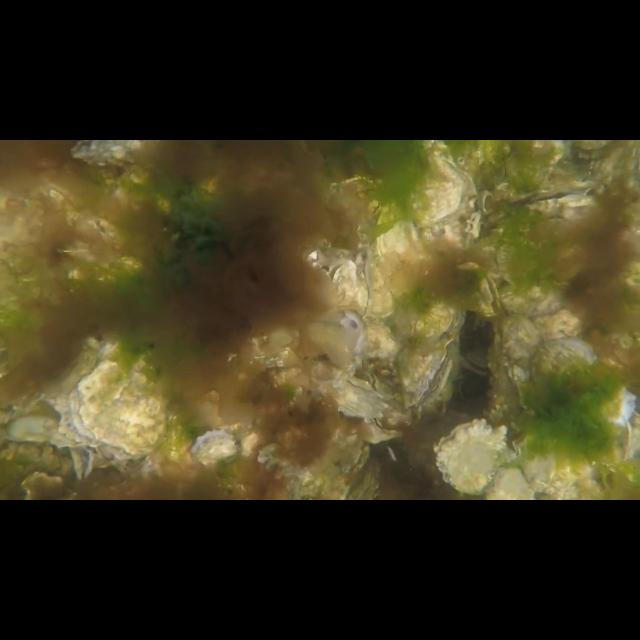Oyster-Closed: (530, 337, 636, 427), (70, 359, 166, 457), (512, 431, 594, 495), (406, 140, 464, 228), (375, 203, 427, 299), (496, 314, 542, 412), (312, 376, 388, 422), (499, 282, 565, 320), (368, 248, 394, 320)
Oyster-Open: (434, 417, 508, 495), (399, 337, 455, 408), (506, 185, 596, 228), (419, 299, 465, 346), (192, 428, 238, 462), (358, 414, 404, 444), (328, 258, 358, 304), (354, 247, 372, 321), (476, 273, 502, 319)
